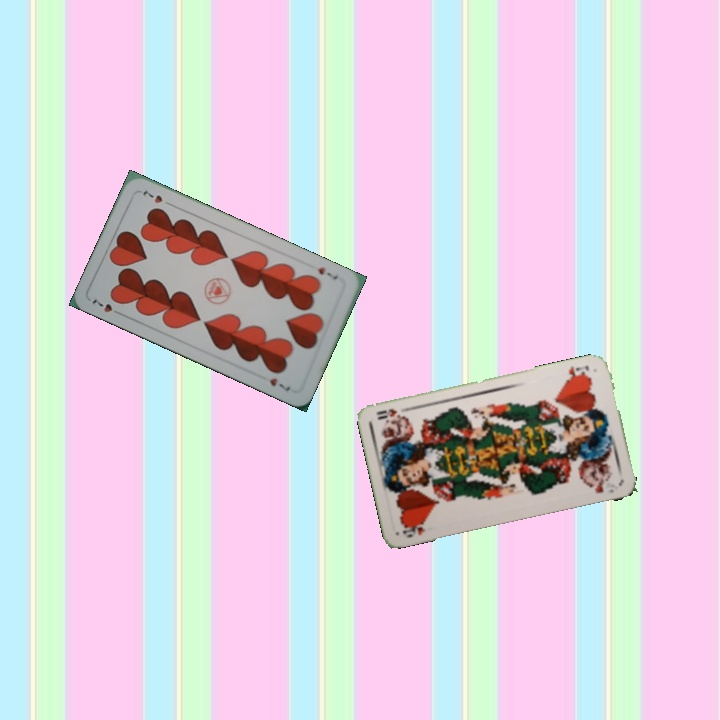H7: (88, 295, 125, 318), (314, 263, 341, 283)
HO: (399, 517, 429, 540), (562, 361, 591, 383)
